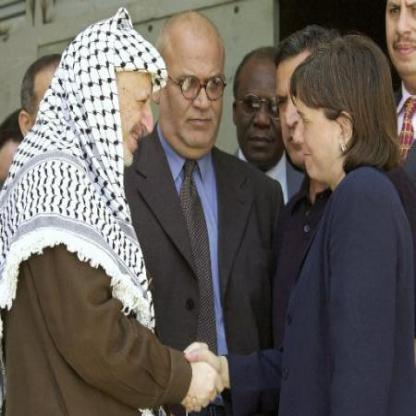face: (161, 15, 232, 154), (272, 36, 336, 170), (108, 43, 166, 169), (237, 51, 295, 170)
